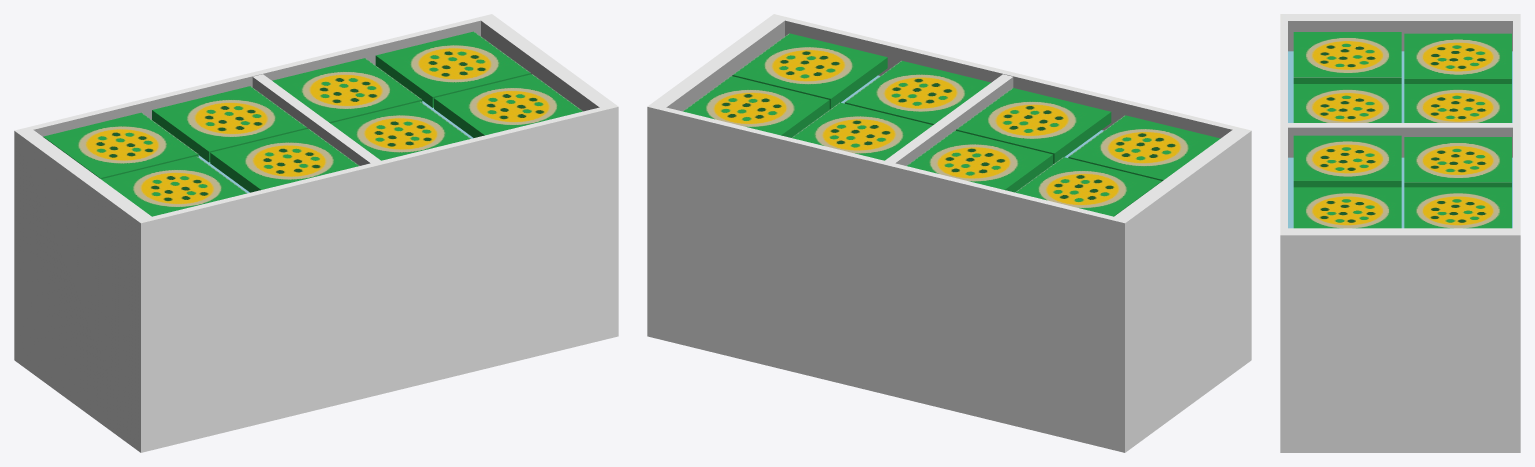
Rendered from green_pizza_box.gltf.
The picture shows the model from 3 angles, left to right: view 1: azimuth 30°, elevation 25°; view 2: azimuth 150°, elevation 25°; view 3: azimuth 270°, elevation 25°; orthographic projection. The views are drawn at different scales.
Parts seen in each view (by area): view 1: Cube.001, Cube.009, Cube.006; view 2: Cube.001, Cube.009, Cube.006; view 3: Cube.001, Cube.006, Cube.009.
Boxes of the visible parts, x1,y1,x2,y2 form: Cube.001: (14,14,618,452); Cube.009: (43,86,359,216); Cube.006: (272,31,582,160); Cube.001: (647,14,1251,452); Cube.009: (906,88,1220,216); Cube.006: (683,33,990,160); Cube.001: (1280,14,1520,452); Cube.006: (1293,135,1511,228); Cube.009: (1293,32,1511,122).
Size of the model in its own units: 9.22 by 4.23 by 4.23.
Materials: 2 (2 with a texture image).
